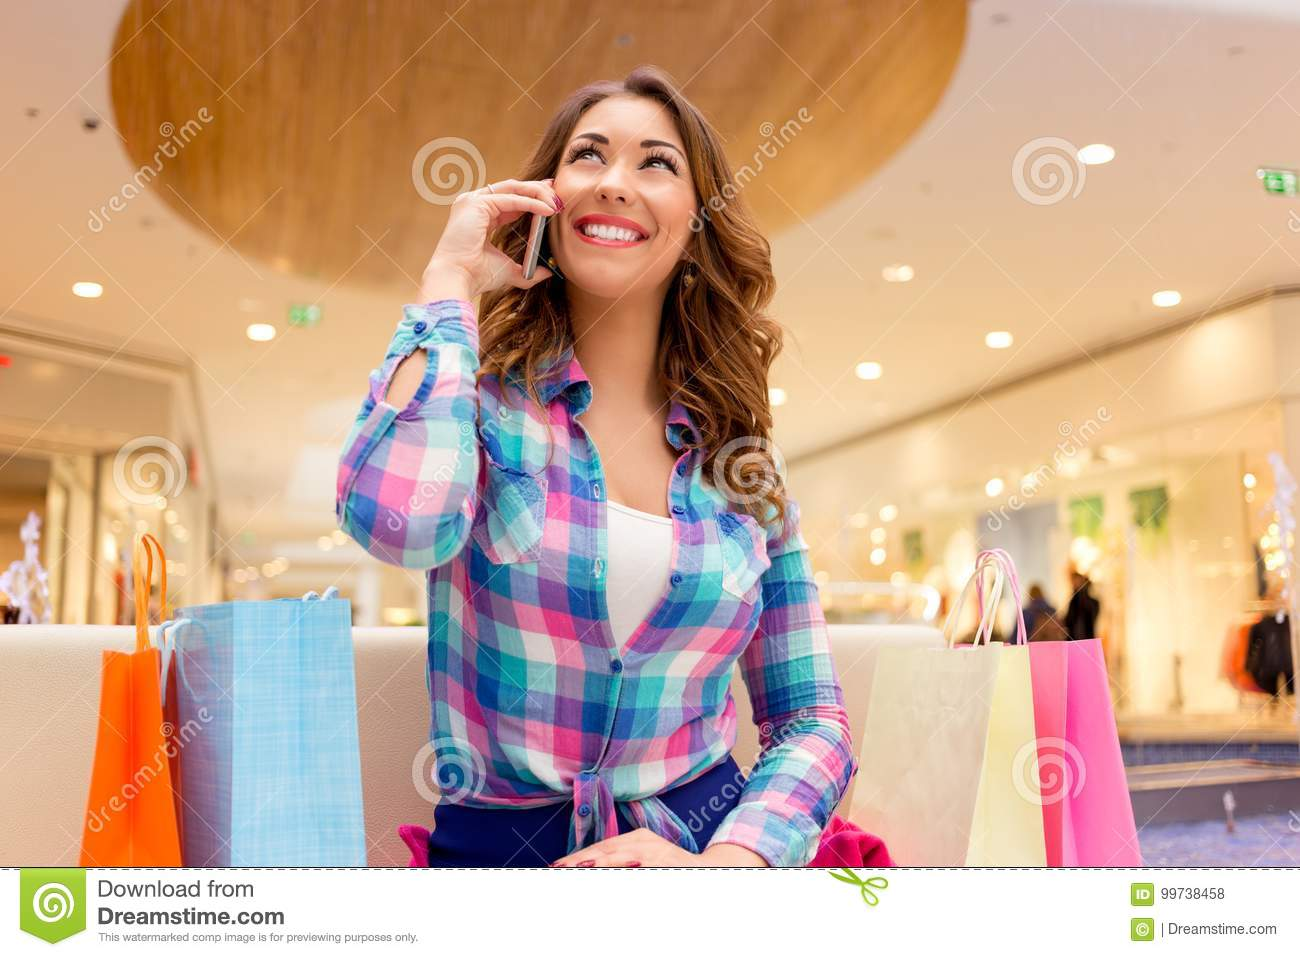phone: (515, 187, 557, 283)
talk: (426, 129, 686, 313)
